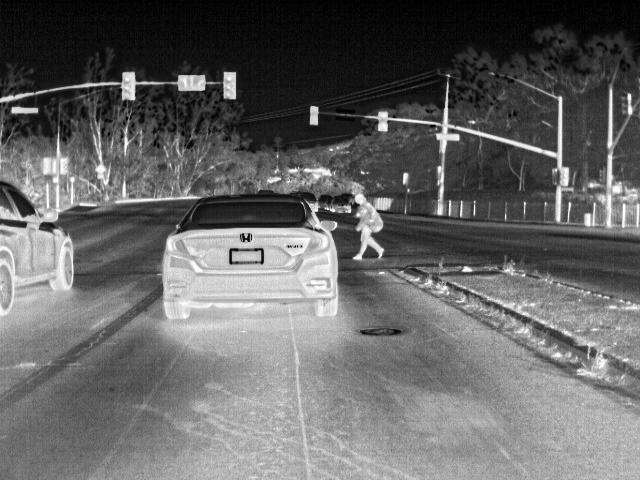car: (162, 195, 341, 321), (1, 179, 75, 318), (299, 191, 318, 210), (333, 193, 353, 211), (319, 194, 333, 210)
person: (351, 192, 388, 264)
